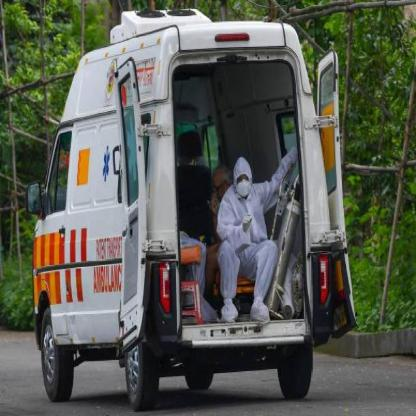priority: (33, 7, 359, 410)
